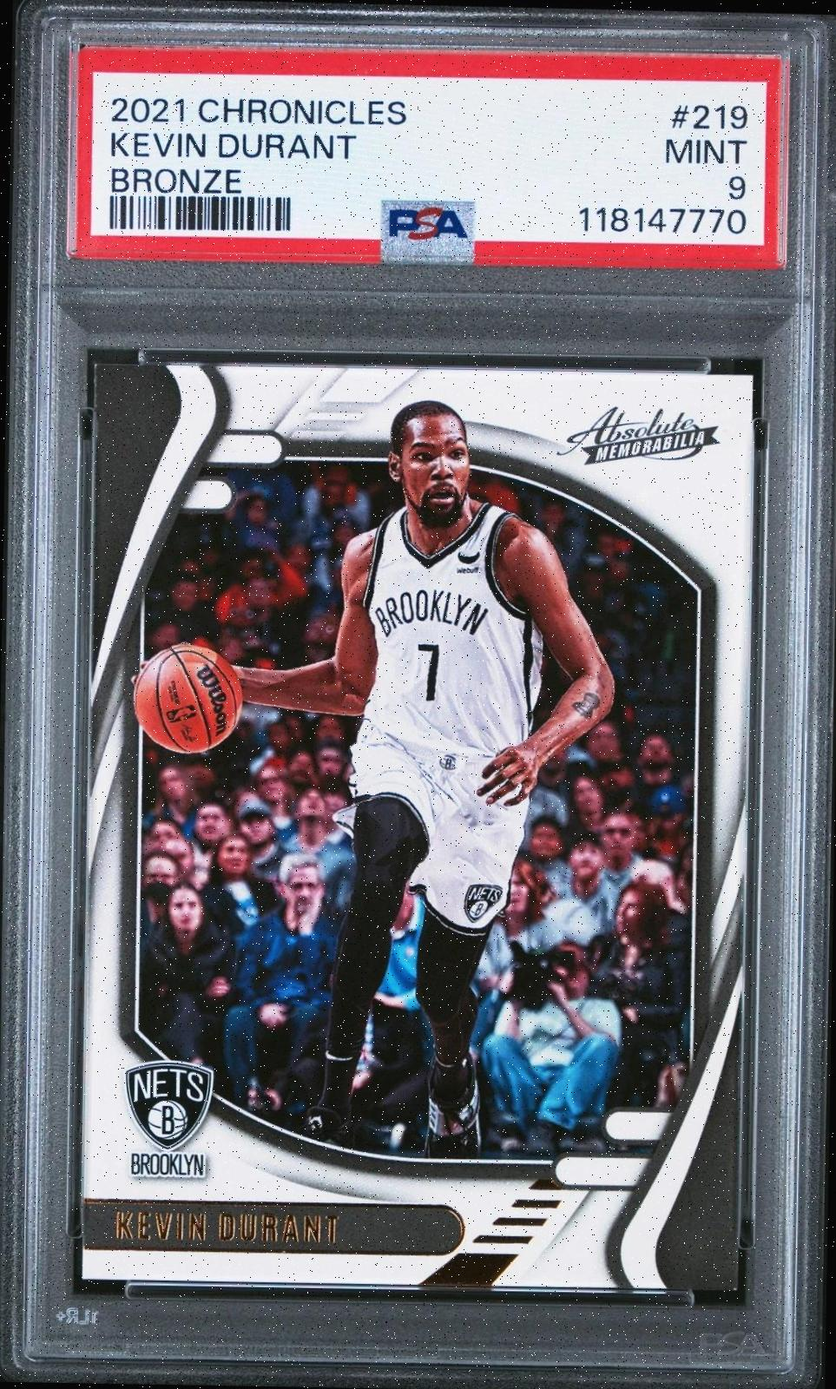card-2UtV: (81, 363, 753, 1291)
